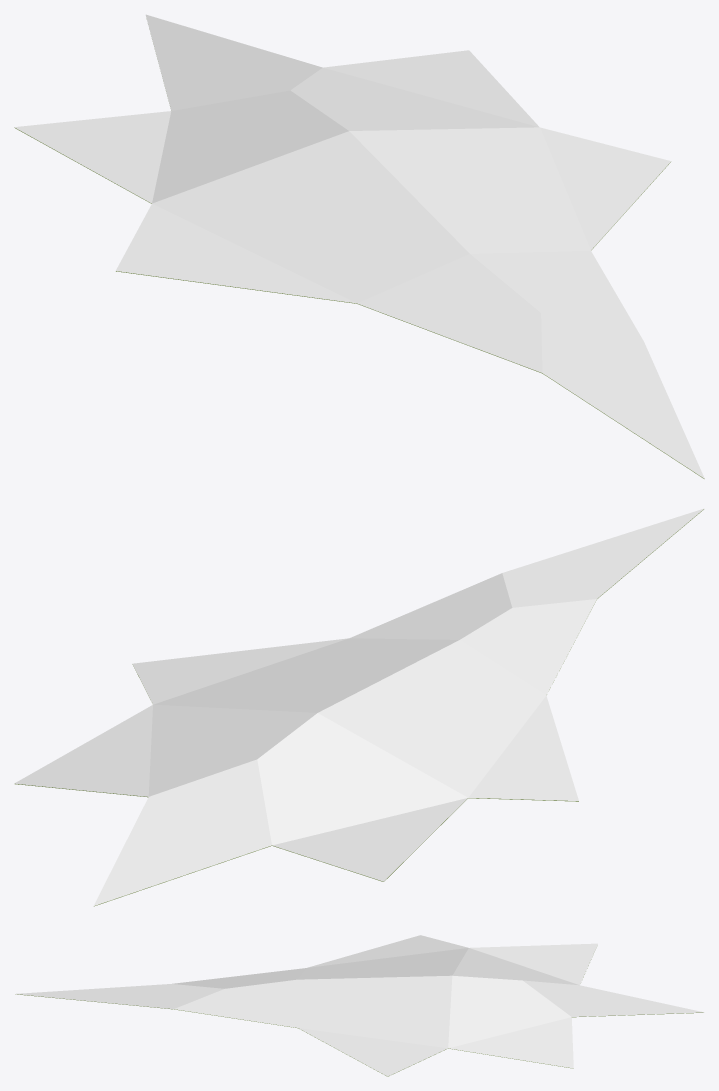
Rendered from Pine_Spikes_TwoSided_Snow_03.fbx.
The picture shows the model from 3 angles, top to bottom: view 1: azimuth 30°, elevation 25°; view 2: azimuth 150°, elevation 25°; view 3: azimuth 270°, elevation 25°; orthographic projection. The views are drawn at different scales.
Parts seen in each view (by area): view 1: Pine_Spikes_TwoSided_Snow_03; view 2: Pine_Spikes_TwoSided_Snow_03; view 3: Pine_Spikes_TwoSided_Snow_03.
Part boxes in pixels (x1,y1,x2,y2): Pine_Spikes_TwoSided_Snow_03: [14, 14, 704, 478]; Pine_Spikes_TwoSided_Snow_03: [14, 508, 704, 906]; Pine_Spikes_TwoSided_Snow_03: [15, 935, 704, 1076].
Size of the model in its own units: 112 by 11.32 by 229.
